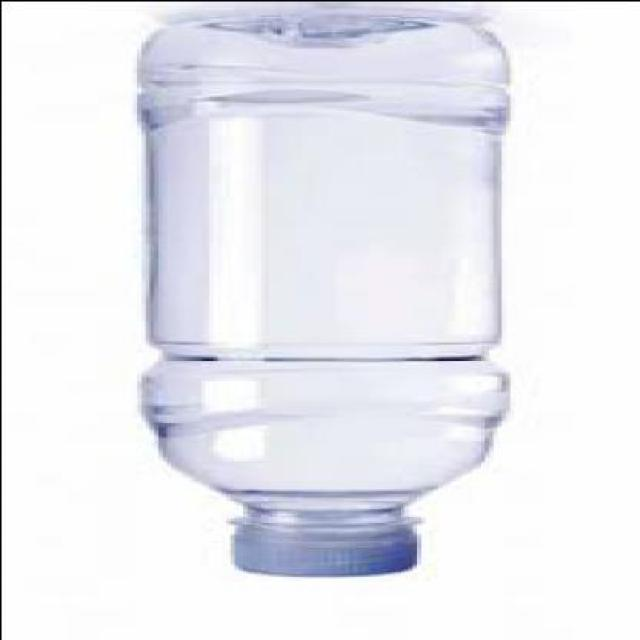PLASTIC: (148, 11, 508, 577), (238, 521, 419, 577)
